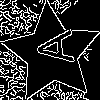A: (26, 28, 75, 67)
